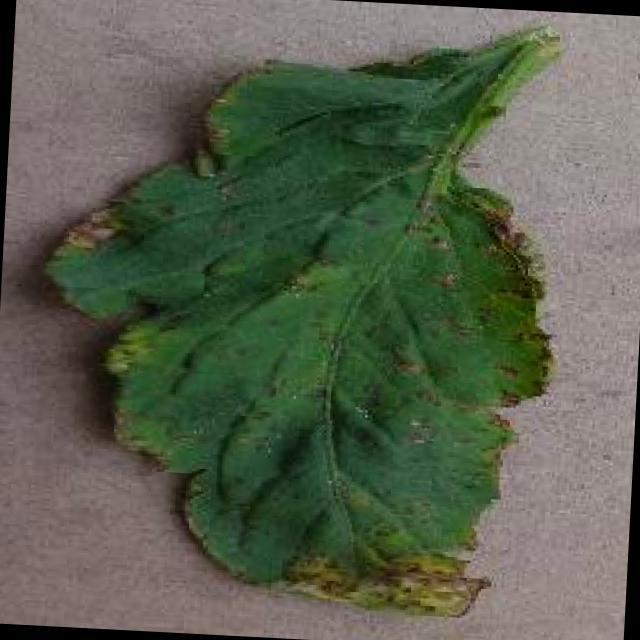Tomato bacterial spot leaf: (20, 29, 569, 626)
